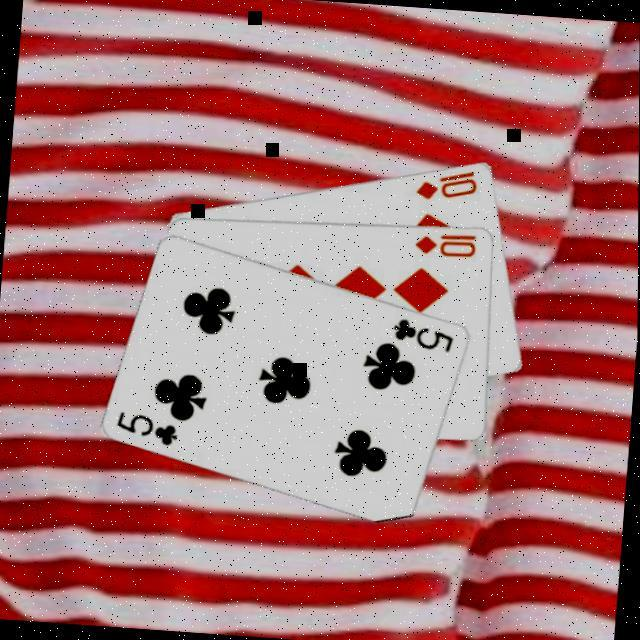10D: (413, 164, 481, 206), (412, 227, 480, 262)
5C: (114, 408, 184, 449), (391, 315, 458, 356)
